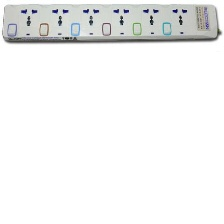three_eye_plug: (1, 2, 223, 44)
